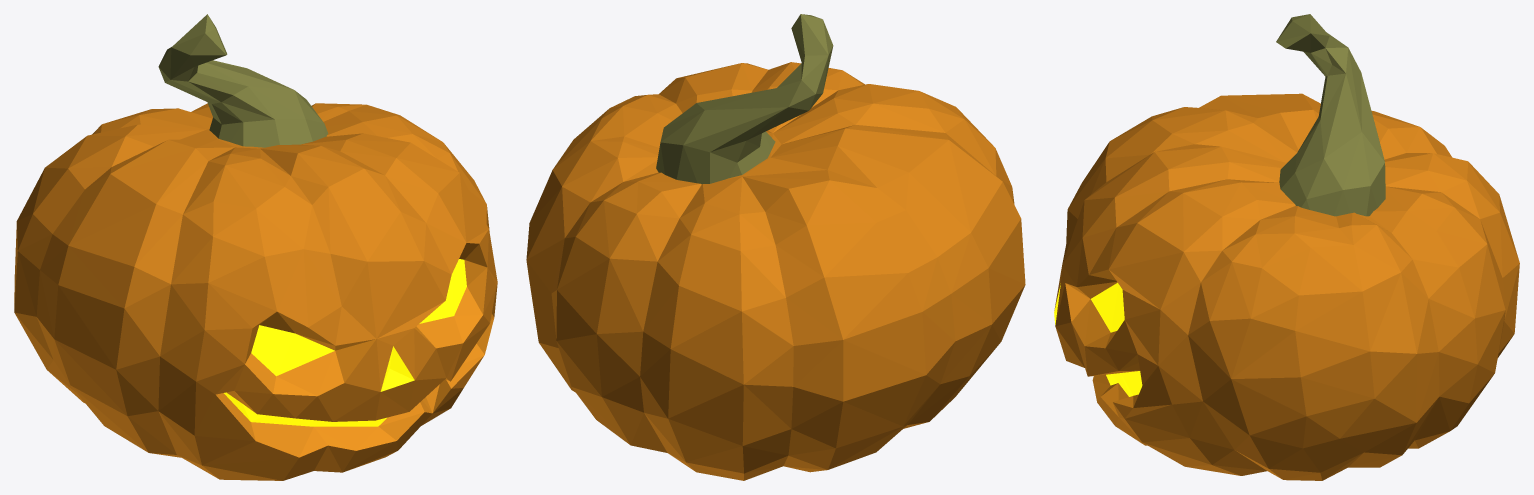
The model's file is Pumpkin_003.fbx.
The picture shows the model from 3 angles, left to right: view 1: azimuth 30°, elevation 25°; view 2: azimuth 150°, elevation 25°; view 3: azimuth 270°, elevation 25°; orthographic projection. The views are drawn at different scales.
Visible parts, largest first — view 1: Pumpkin_003; view 2: Pumpkin_003; view 3: Pumpkin_003.
Part boxes in pixels (bbox=[...]): Pumpkin_003: bbox=[14, 14, 497, 480]; Pumpkin_003: bbox=[526, 14, 1025, 480]; Pumpkin_003: bbox=[1054, 14, 1519, 480].
Size of the model in its own units: 0.4641 by 0.4402 by 0.4653.
